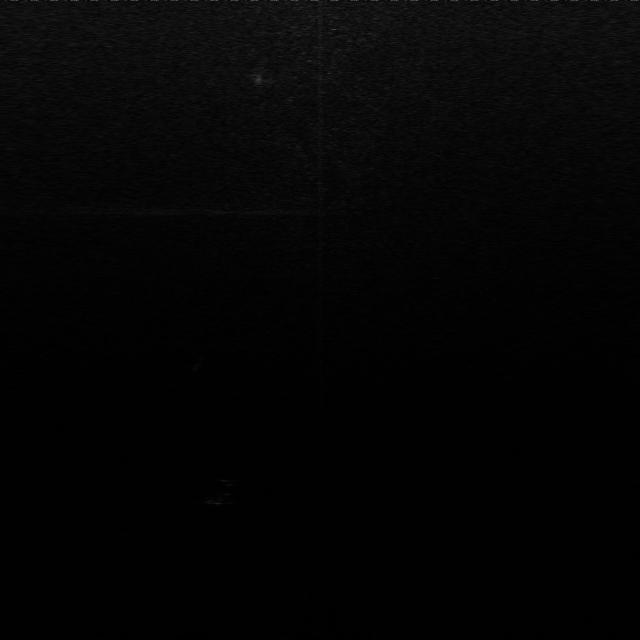ball: (198, 474, 238, 508)
